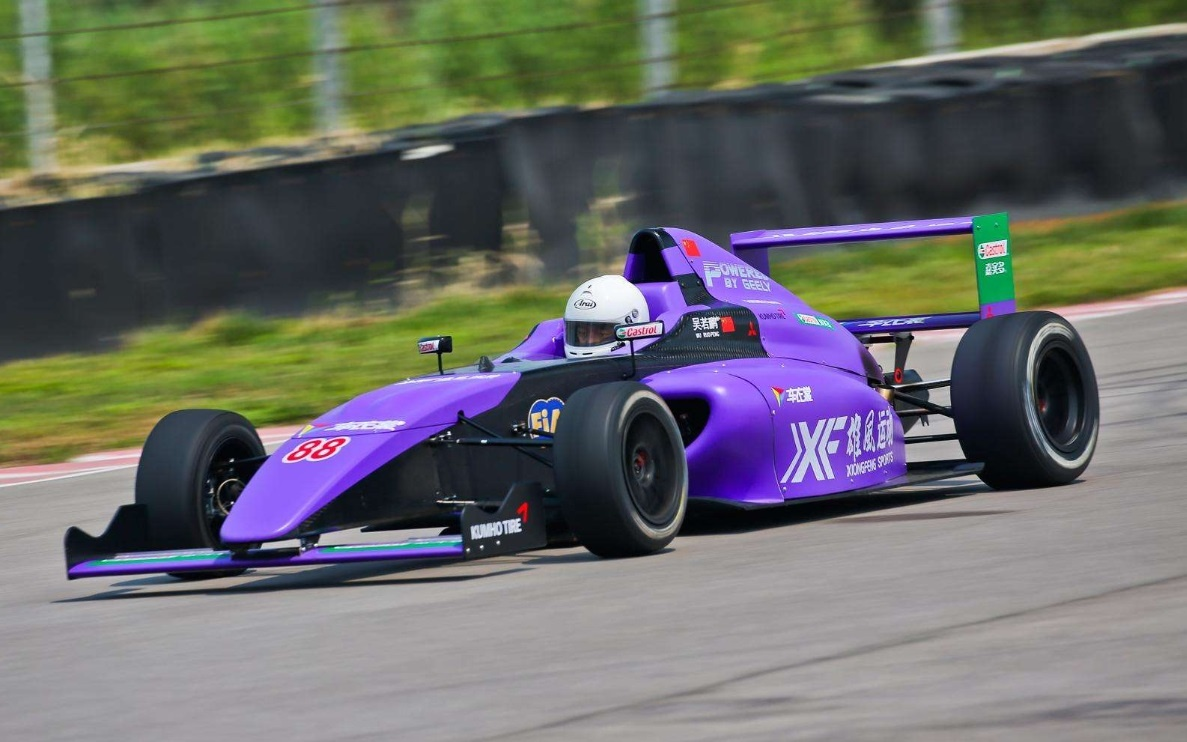racing car: (85, 191, 1138, 583)
